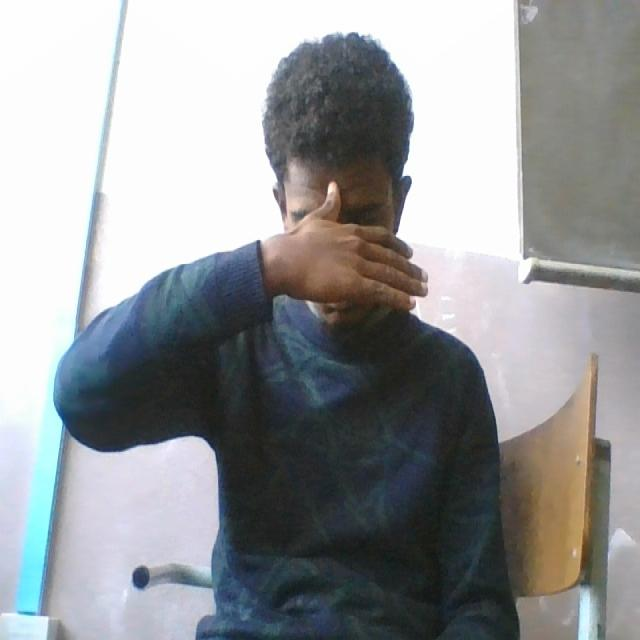abat: (233, 122, 447, 318)
